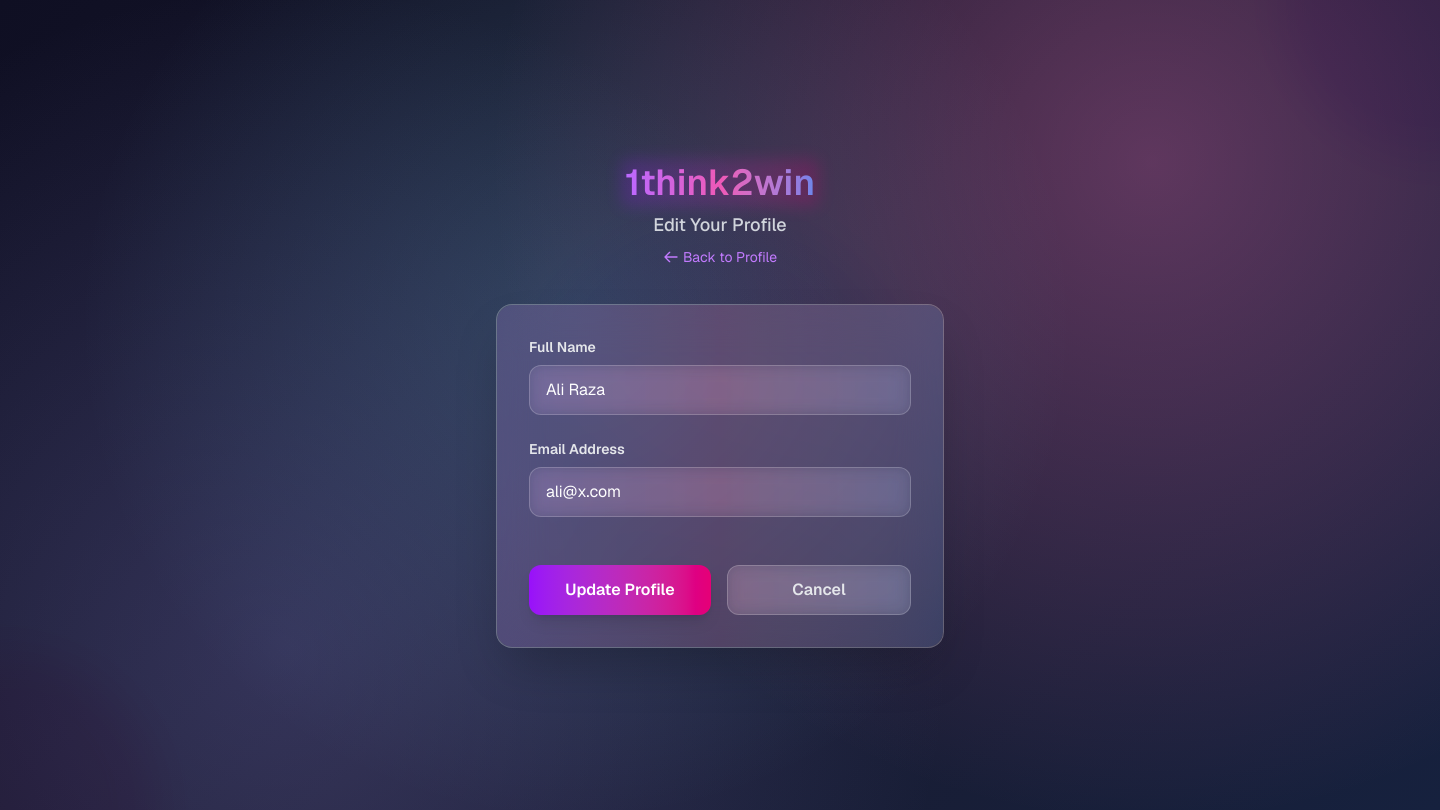
Test: edit profile page › prefills, validates and saves the profile
Replace the text in the field labelled "Full Name" with "A" at [720, 390], box x1=529 y1=364 x2=911 y2=414
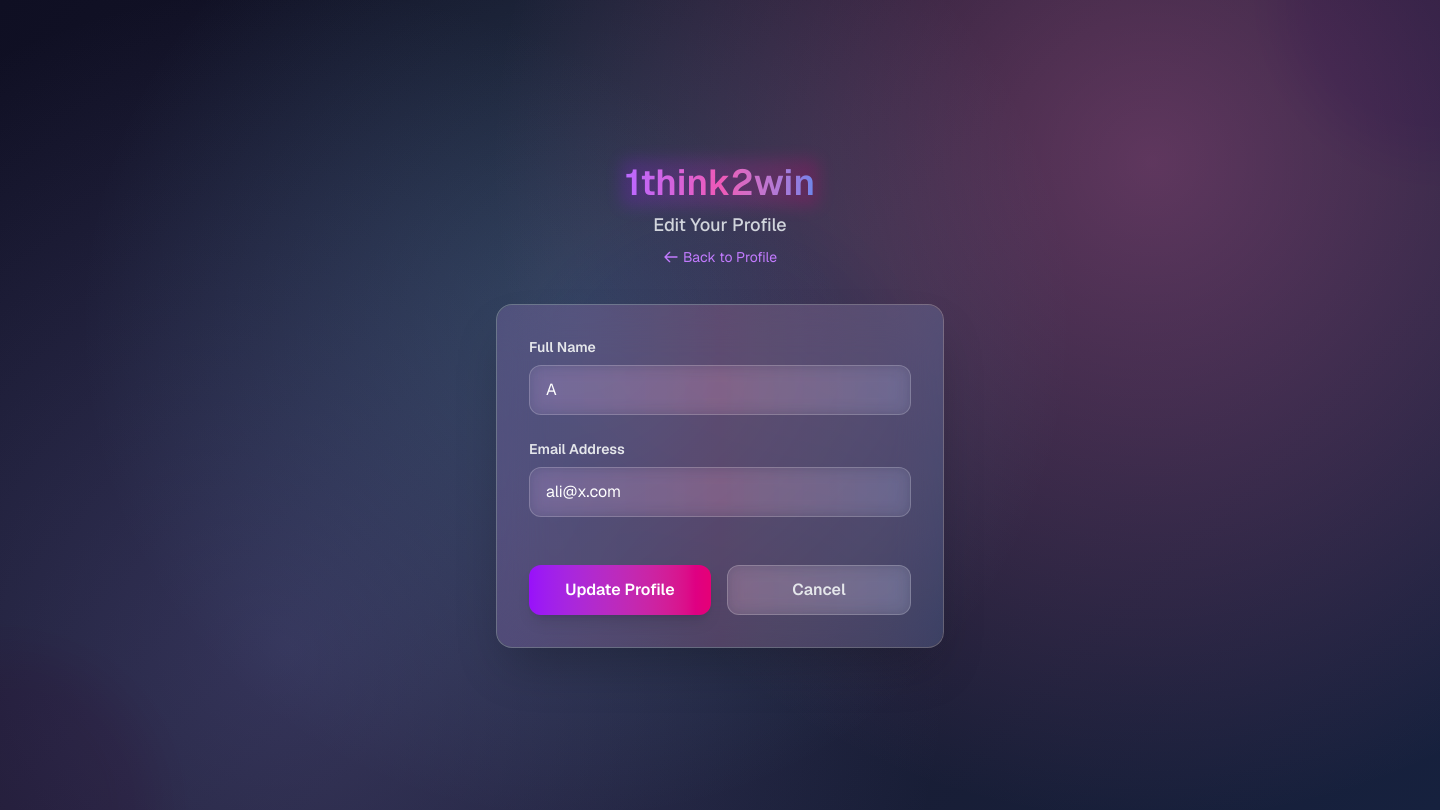
Submit the form "Update Profile", box x1=529 y1=336 x2=911 y2=614
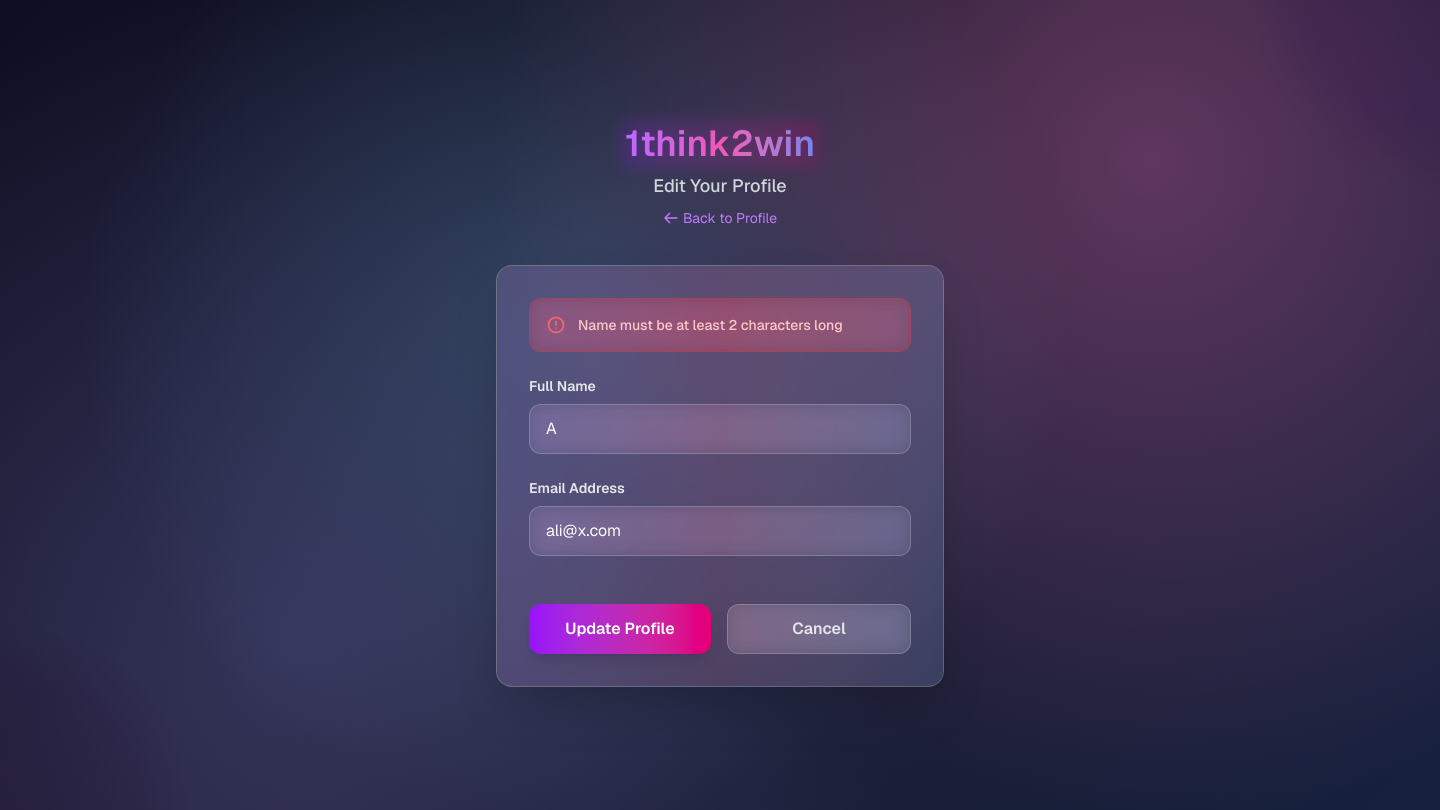
Check: the text "Name must be at least 2 characters long" is shown, box x1=578 y1=314 x2=843 y2=334
Replace the text in the field labelled "Full Name" with "  Ali   Khan  " at [720, 428], box x1=529 y1=404 x2=911 y2=454
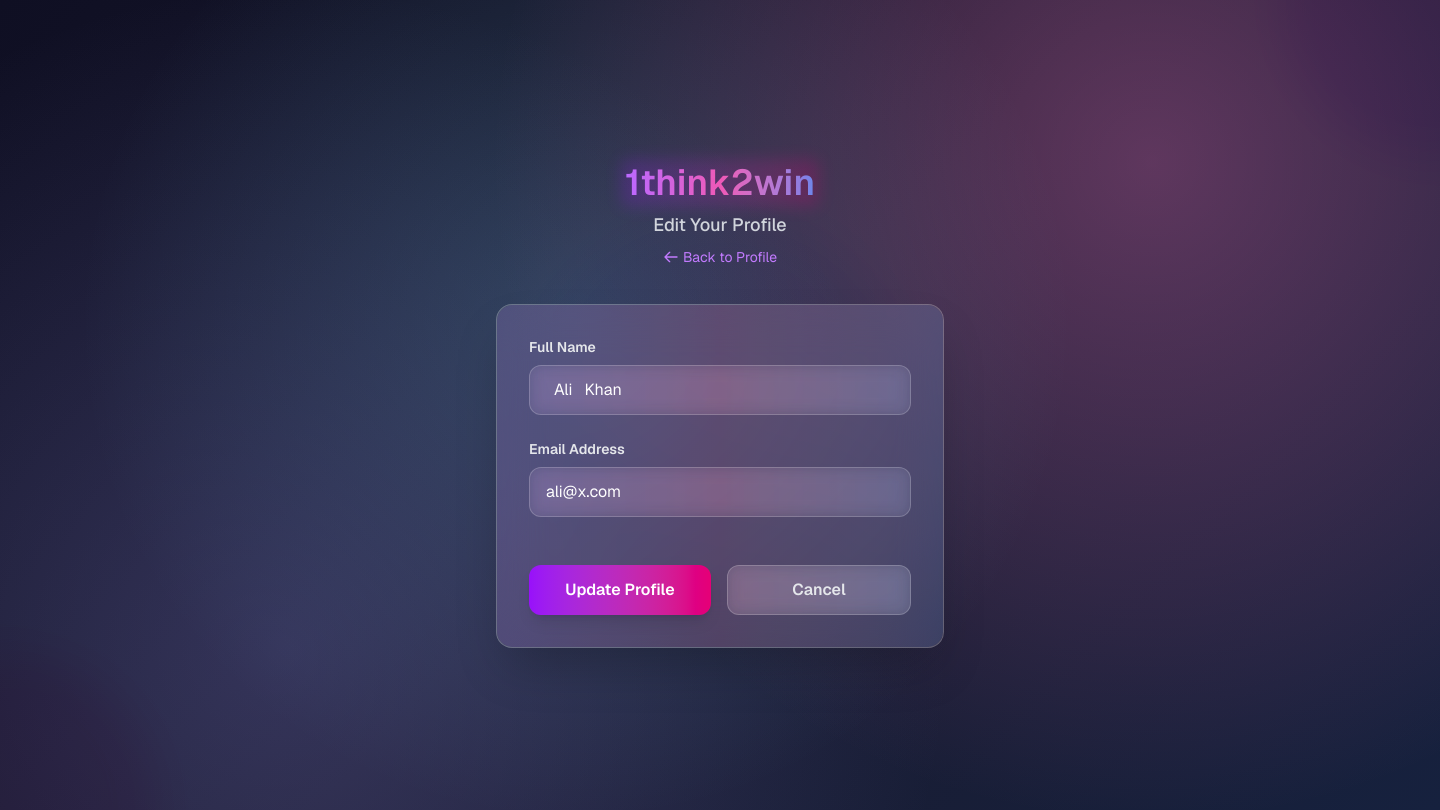
Check: the text "Name must be" is gone
Submit the form "Update Profile", box x1=529 y1=336 x2=911 y2=614
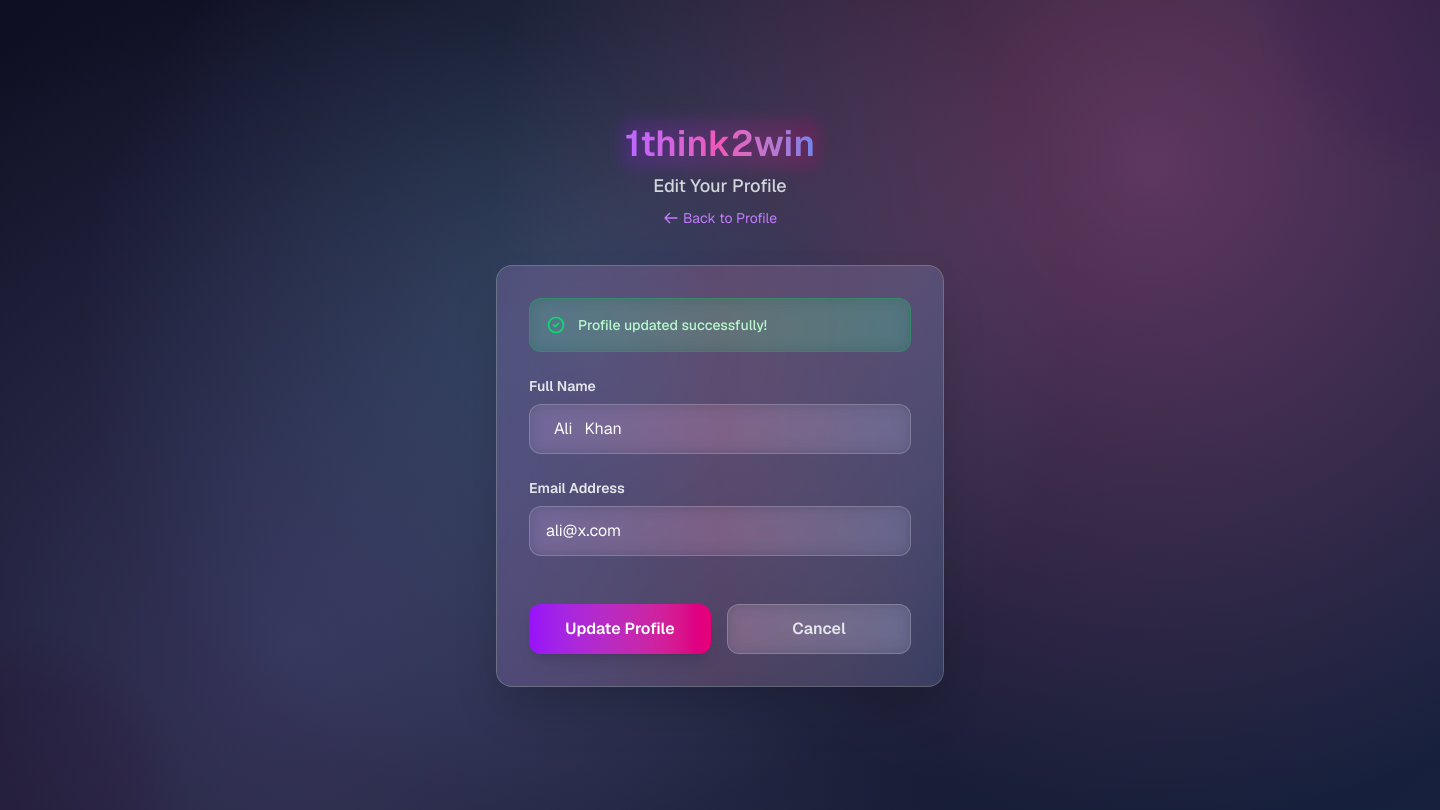
Check: the text "Profile updated successfully!" is shown, box x1=578 y1=314 x2=767 y2=334
Replace the text in the field labelled "Email Address" with "ali.raza@x.com" at [720, 530], box x1=529 y1=506 x2=911 y2=556
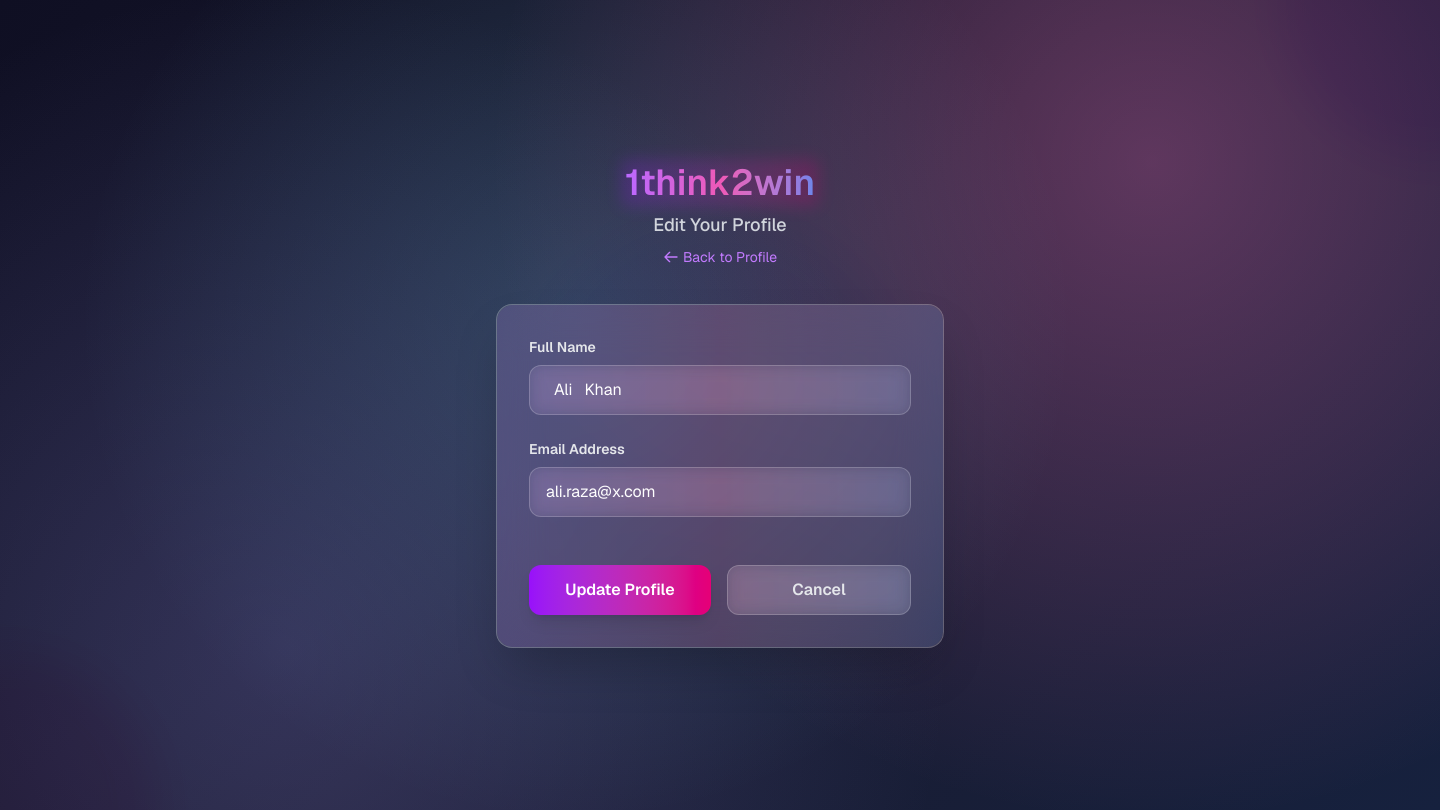
Check: the text "Profile updated successfully!" is gone
